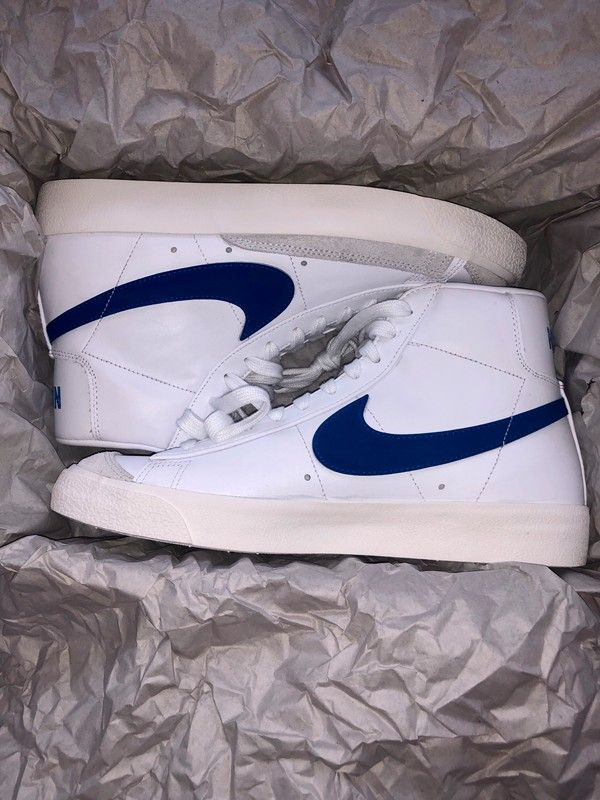nike_blazer_mid77_darkblue: (55, 279, 595, 576), (31, 174, 531, 452), (583, 158, 600, 179)
